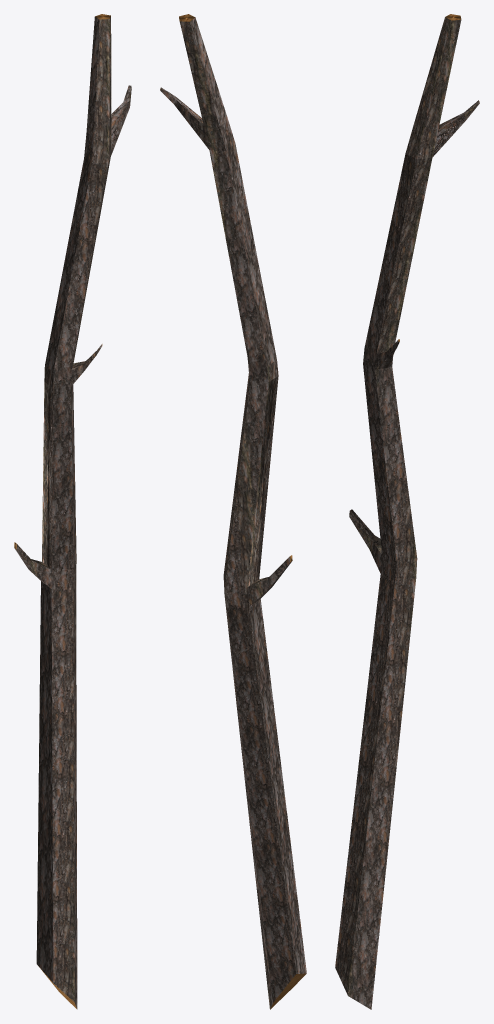
The model's file is branch_item_model.obj.
The picture shows the model from 3 angles, left to right: view 1: azimuth 30°, elevation 25°; view 2: azimuth 150°, elevation 25°; view 3: azimuth 330°, elevation 25°; orthographic projection. The views are drawn at different scales.
Parts seen in each view (by area): view 1: Cylinder.002; view 2: Cylinder.002; view 3: Cylinder.002.
Part boxes in pixels (x1=…): Cylinder.002: x1=14, y1=14, x2=131, y2=1009; Cylinder.002: x1=160, y1=14, x2=306, y2=1009; Cylinder.002: x1=335, y1=14, x2=479, y2=1009.
Bounding box in the file's own units: 0.26 × 1.97 × 0.1552.
